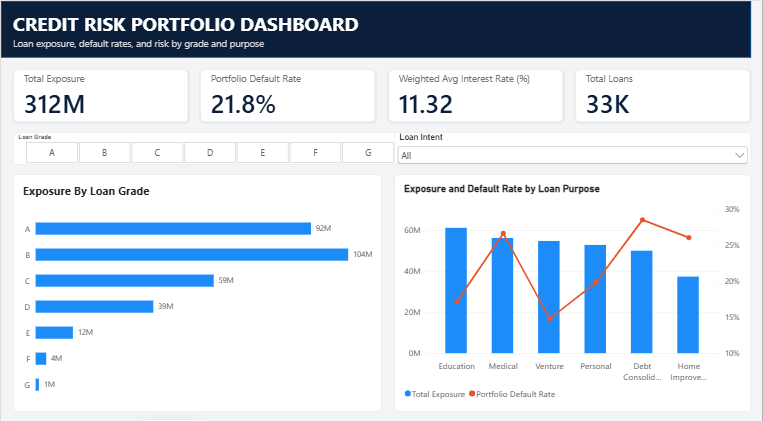

The dashboard page shown, as its layout file describes it:
{"tool":"powerbi","page":{"name":"Overview","canvas":[1280,720],"ordinal":0},"visuals":[{"type":"cardVisual","fields":{"Data":["vw_executive_portfolio_summary.Total Exposure"]},"box":[20,115,295,90],"z":0},{"type":"cardVisual","fields":{"Data":["vw_borrower_risk_detail.Portfolio Default Rate"]},"box":[335,115,295,90],"z":1000},{"type":"cardVisual","fields":{"Data":["vw_borrower_risk_detail.Wtd Avg Interest Rate"]},"box":[650,115,295,90],"z":2000},{"type":"cardVisual","fields":{"Data":["vw_borrower_risk_detail.Loan Count"]},"box":[965,115,295,90],"z":3000},{"type":"shape","box":[0,0,1260,95],"z":4000},{"type":"clusteredBarChart","title":"Exposure By Loan Grade","fields":{"Category":["vw_borrower_risk_detail.loan_grade"],"Y":["vw_executive_portfolio_summary.Total Exposure"]},"box":[20,290,620,400],"z":5000},{"type":"lineClusteredColumnComboChart","title":"Exposure and Default Rate by Loan Purpose","fields":{"Category":["vw_borrower_risk_detail.loan_intent"],"Y":["vw_executive_portfolio_summary.Total Exposure"],"Y2":["vw_borrower_risk_detail.Portfolio Default Rate"]},"box":[660,290,600,400],"z":6000},{"type":"textbox","box":[20,15,700,45],"z":7000},{"type":"textbox","box":[20,60,700,25],"z":8000},{"type":"slicer","title":"Loan Grade","fields":{"Values":["vw_borrower_risk_detail.loan_grade"]},"box":[20,220,660,55],"z":9000},{"type":"slicer","title":"Loan Intent","fields":{"Values":["vw_borrower_risk_detail.loan_intent"]},"box":[660,220,600,55],"z":10000}]}

Visuals, with their boxes in screenshot pixels (x1, y1, x2, y2), scaled from the page's 1280x720 canvas onto the 763x421 screenshot:
cardVisual - vw_executive_portfolio_summary.Total Exposure: x1=12, y1=67, x2=188, y2=120
cardVisual - vw_borrower_risk_detail.Portfolio Default Rate: x1=200, y1=67, x2=376, y2=120
cardVisual - vw_borrower_risk_detail.Wtd Avg Interest Rate: x1=387, y1=67, x2=563, y2=120
cardVisual - vw_borrower_risk_detail.Loan Count: x1=575, y1=67, x2=751, y2=120
shape: x1=0, y1=0, x2=751, y2=56
"Exposure By Loan Grade" clusteredBarChart: x1=12, y1=170, x2=382, y2=403
"Exposure and Default Rate by Loan Purpose" lineClusteredColumnComboChart: x1=393, y1=170, x2=751, y2=403
textbox: x1=12, y1=9, x2=429, y2=35
textbox: x1=12, y1=35, x2=429, y2=50
"Loan Grade" slicer: x1=12, y1=129, x2=405, y2=161
"Loan Intent" slicer: x1=393, y1=129, x2=751, y2=161
